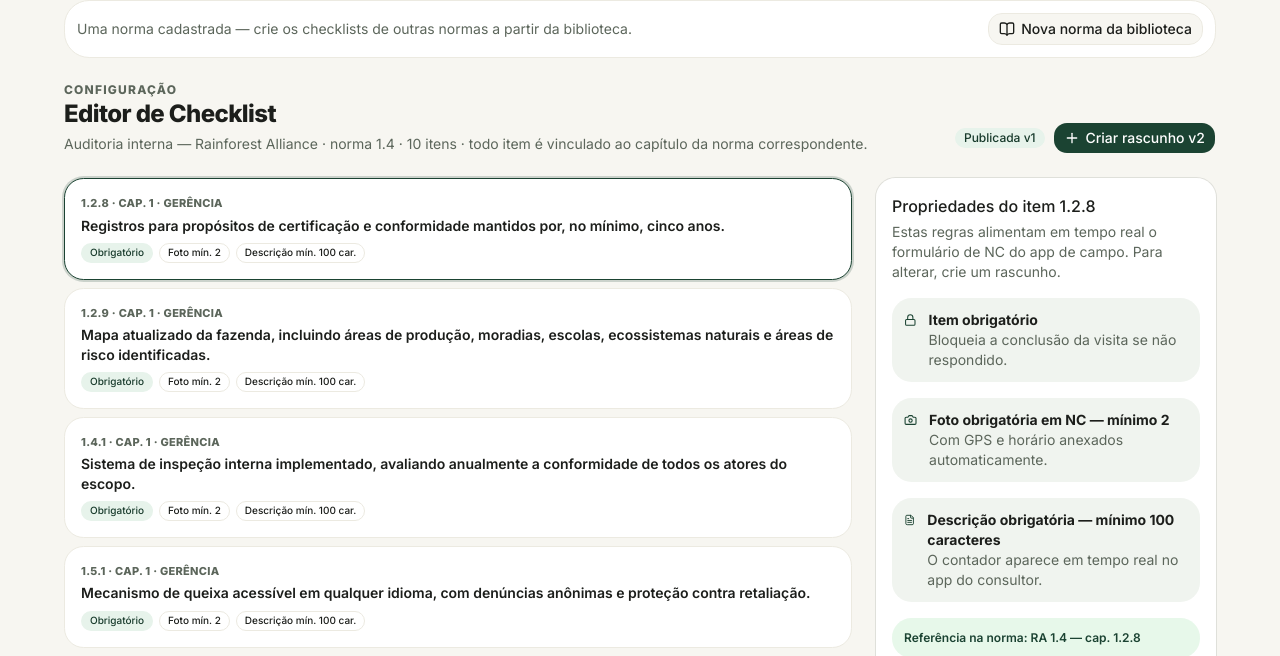
Test case: Página de checklists — multi-normas › troca o preview ao escolher a norma Orgânico
Click the button "Nova norma da biblioteca" at (1096, 29), box [988, 13, 1203, 45]
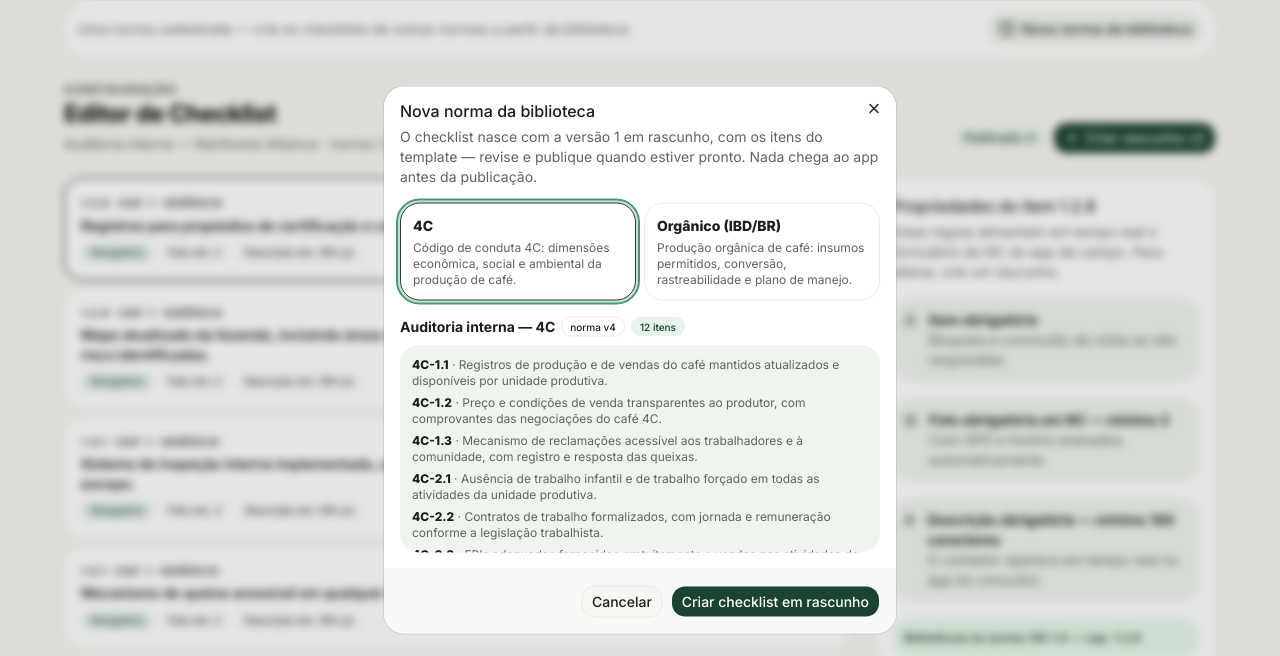
Click the button "Orgânico (IBD/BR)" at (762, 252), box [644, 202, 880, 300]
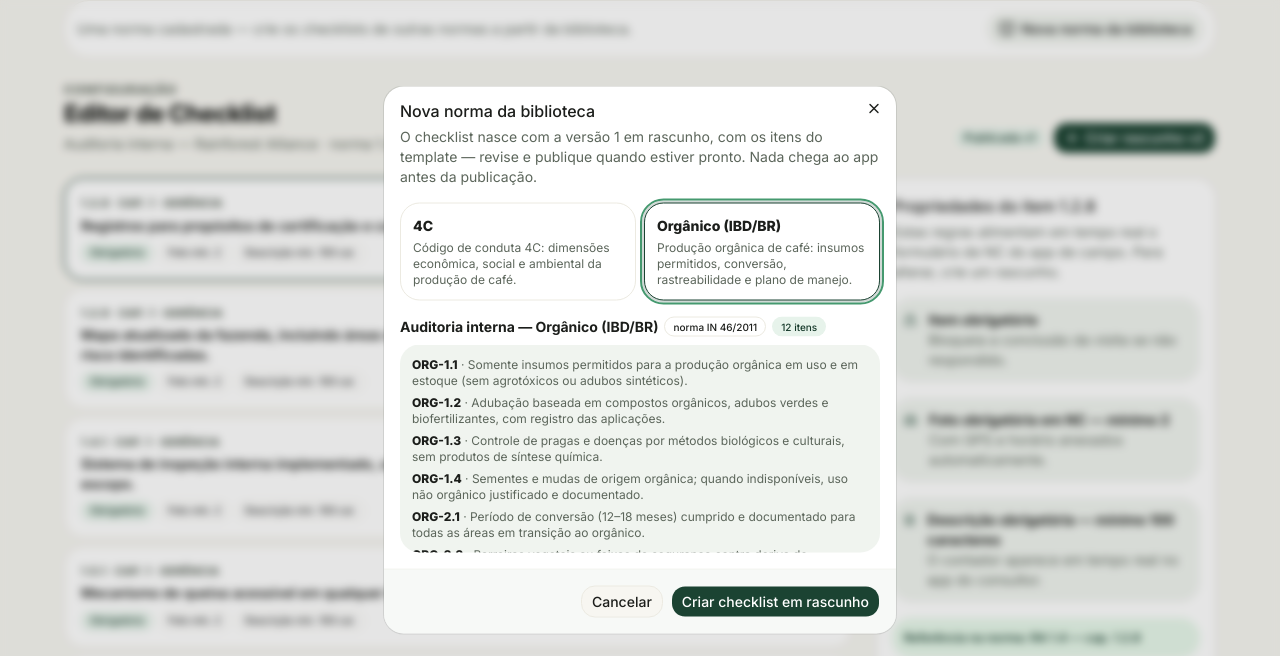
Expected: the text "Auditoria interna — Orgânico (IBD/BR)" is shown, [400, 318, 658, 334]
Expected: the text "ORG-2.1" is shown, [412, 508, 460, 524]
